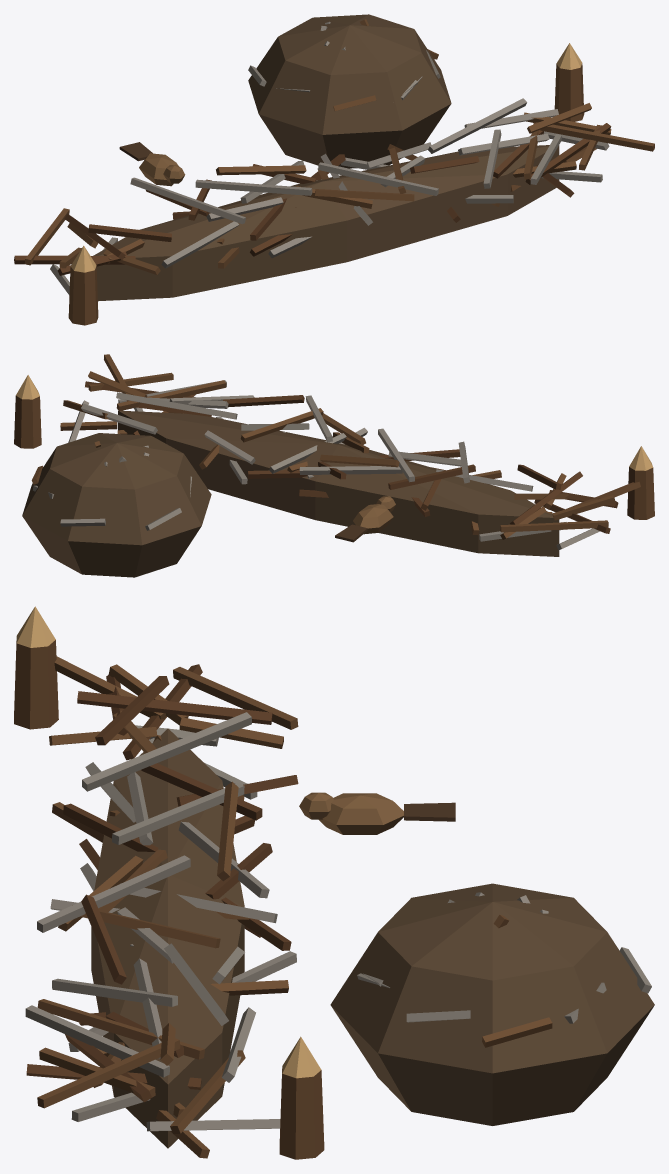
File: cover_beaver_dam.glb
3 renders of one model, top to bottom at view 1: azimuth 30°, elevation 25°; view 2: azimuth 150°, elevation 25°; view 3: azimuth 270°, elevation 25°, orthographic. The views are drawn at different scales.
Parts seen in each view (by area): view 1: biome_riverside_beaver_dam; view 2: biome_riverside_beaver_dam; view 3: biome_riverside_beaver_dam.
Boxes of the visible parts, left/top/right/bottom form: biome_riverside_beaver_dam: left=14, top=14, right=654, bottom=325; biome_riverside_beaver_dam: left=14, top=354, right=654, bottom=577; biome_riverside_beaver_dam: left=14, top=606, right=654, bottom=1159.
Size of the model in its own units: 7.27 by 1.54 by 4.34.
